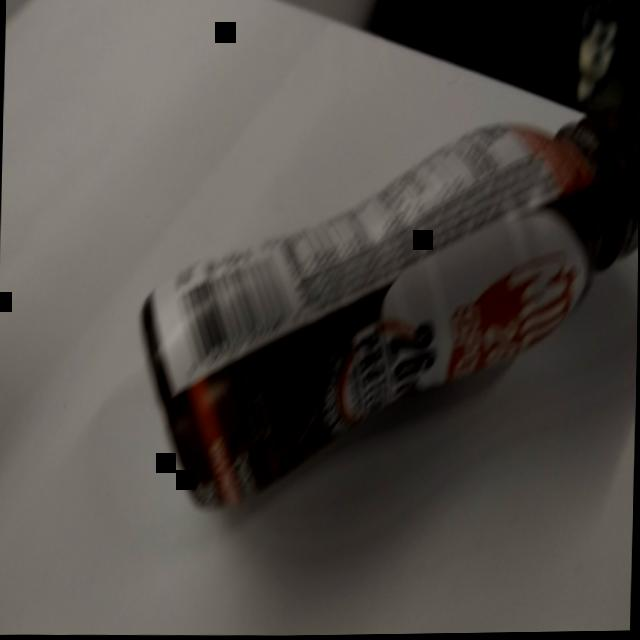chocolate_drink: (125, 98, 639, 529)
